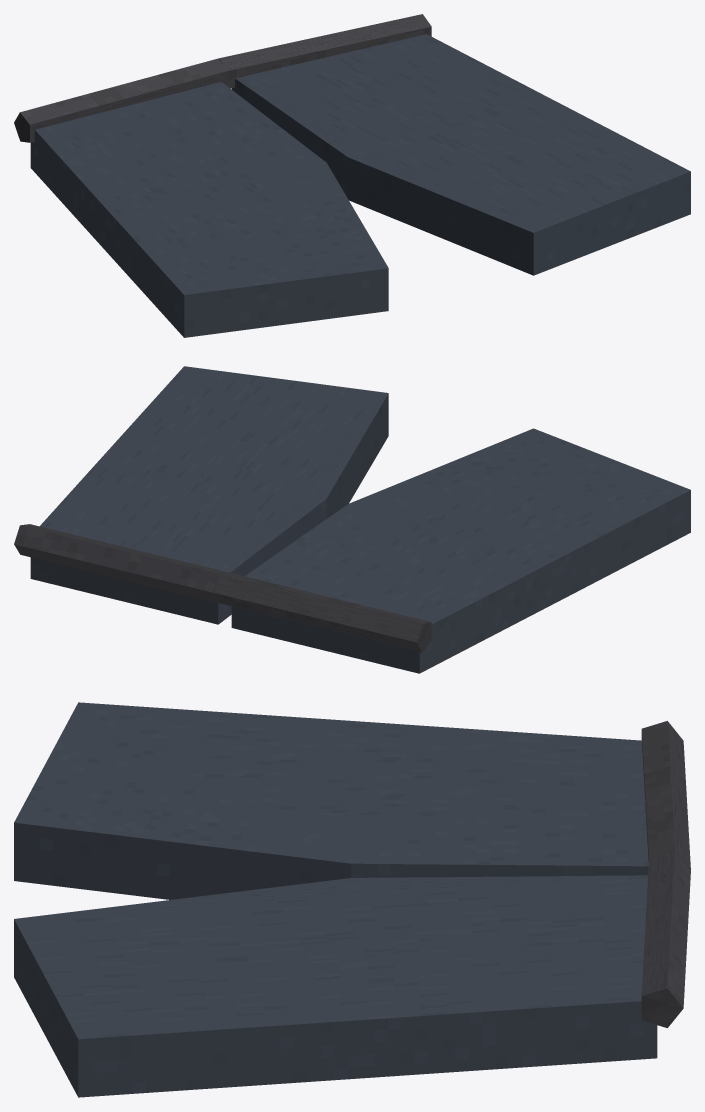
Rendered from wetsuit_shorts.glb.
The picture shows the model from 3 angles, top to bottom: view 1: azimuth 30°, elevation 25°; view 2: azimuth 150°, elevation 25°; view 3: azimuth 270°, elevation 25°; orthographic projection. The views are drawn at different scales.
Visible parts, largest first — view 1: block_short neoprene leg (×2), block_elastic waistband 0, block_elastic waistband 1; view 2: block_short neoprene leg (×2), block_elastic waistband 0, block_elastic waistband 1; view 3: block_short neoprene leg (×2), block_elastic waistband 1, block_elastic waistband 0.
Part boxes in pixels (x1,y1,x2,y2): block_short neoprene leg (×2): [30, 34, 690, 337]; block_elastic waistband 0: [14, 58, 227, 142]; block_elastic waistband 1: [218, 14, 431, 88]; block_short neoprene leg (×2): [30, 366, 690, 673]; block_elastic waistband 0: [213, 572, 431, 652]; block_elastic waistband 1: [14, 524, 227, 602]; block_short neoprene leg (×2): [14, 702, 657, 1097]; block_elastic waistband 1: [641, 851, 690, 1028]; block_elastic waistband 0: [641, 721, 690, 870].
Size of the model in its own units: 0.522 by 0.0566 by 0.4433.
Materials: 1 (1 with a texture image).
